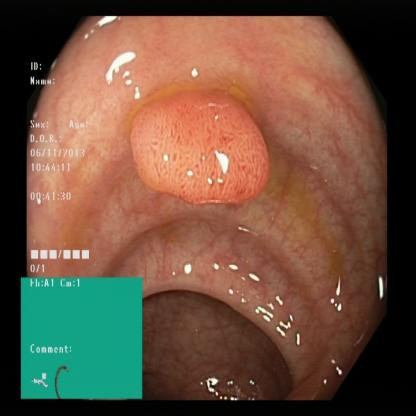Labels: (28, 57, 100, 278), (22, 272, 143, 402)
Polyps: (135, 80, 267, 224)
